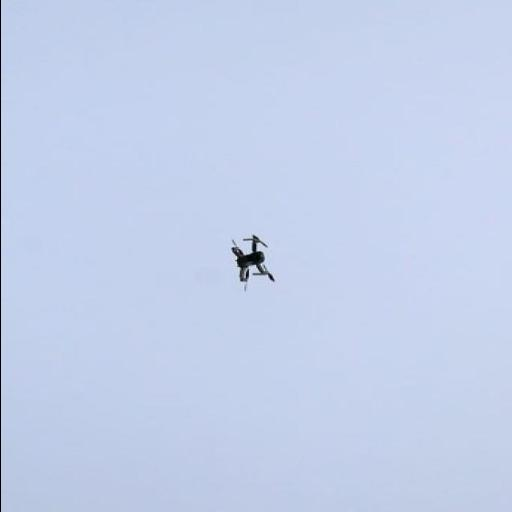uav: (226, 234, 274, 292)
